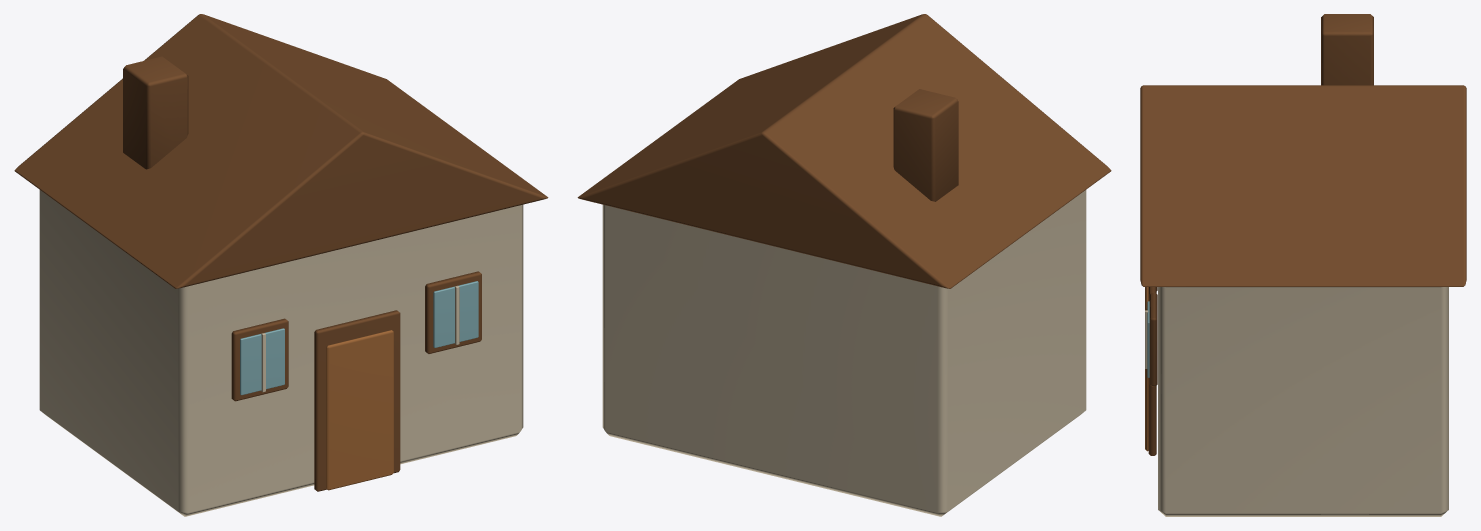
The model's file is cottage.glb.
3 renders of one model, left to right at view 1: azimuth 30°, elevation 25°; view 2: azimuth 150°, elevation 25°; view 3: azimuth 270°, elevation 25°, orthographic.
Parts seen in each view (by area): view 1: cottage; view 2: cottage; view 3: cottage.
Boxes of the visible parts, x1=… form: cottage: x1=14, y1=14, x2=548, y2=516; cottage: x1=577, y1=14, x2=1111, y2=516; cottage: x1=1140, y1=14, x2=1466, y2=516.
Bounding box in the file's own units: 4.86 × 4.55 × 3.7.
